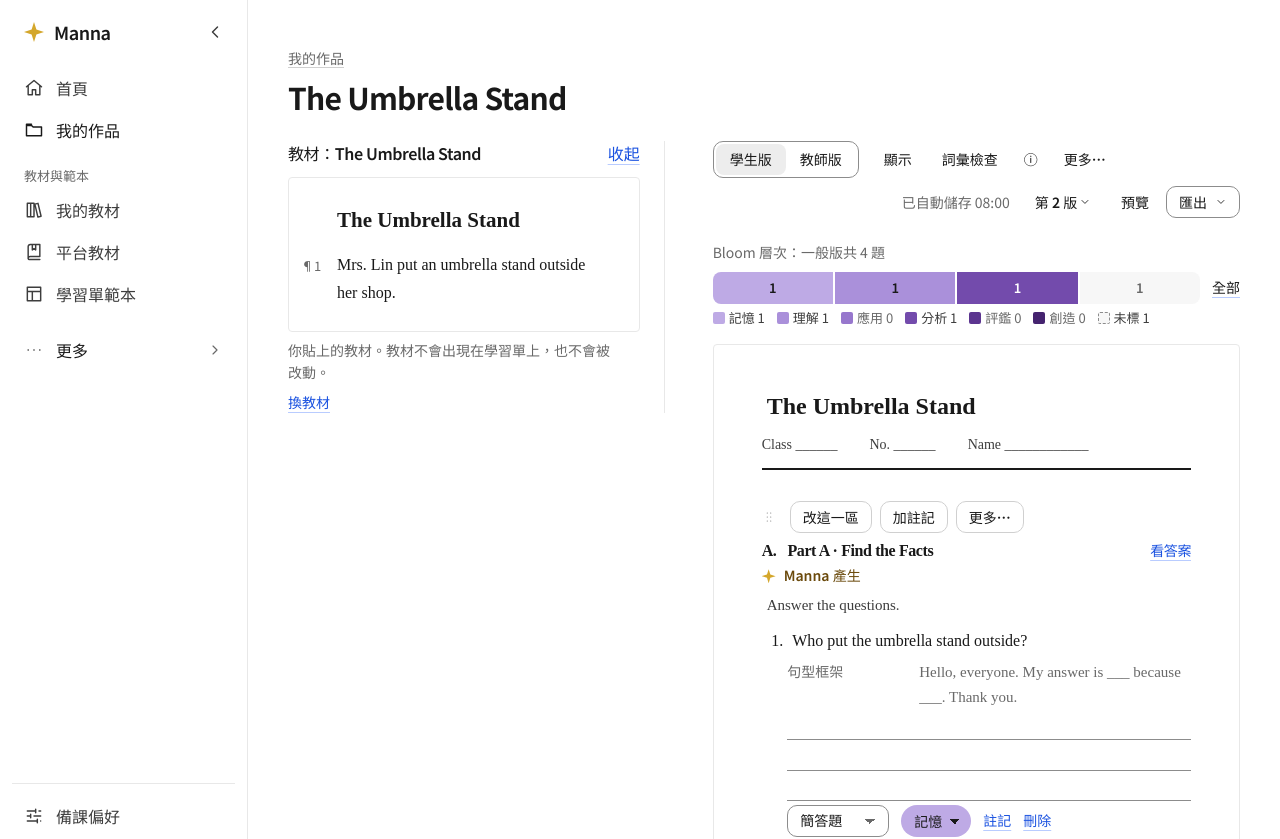
worksheet editor: Bloom chip, distribution and hint › the teacher view shows each block's Bloom line
This screenshot has width=1280, height=839.
Click the radio button labelled "教師版" at [821, 159], box [800, 149, 842, 169]
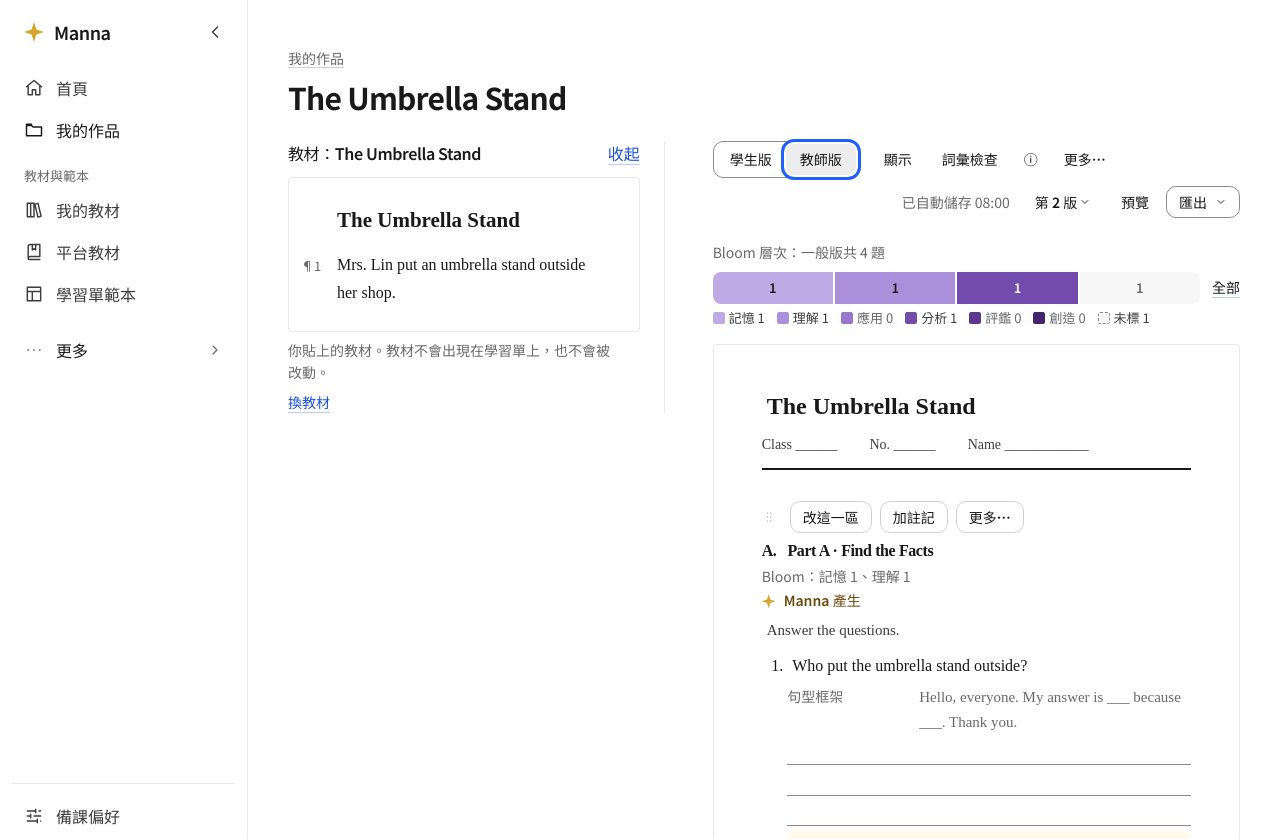
expect the text "Bloom：記憶 1、理解 1" is shown: met, box [762, 566, 911, 586]
